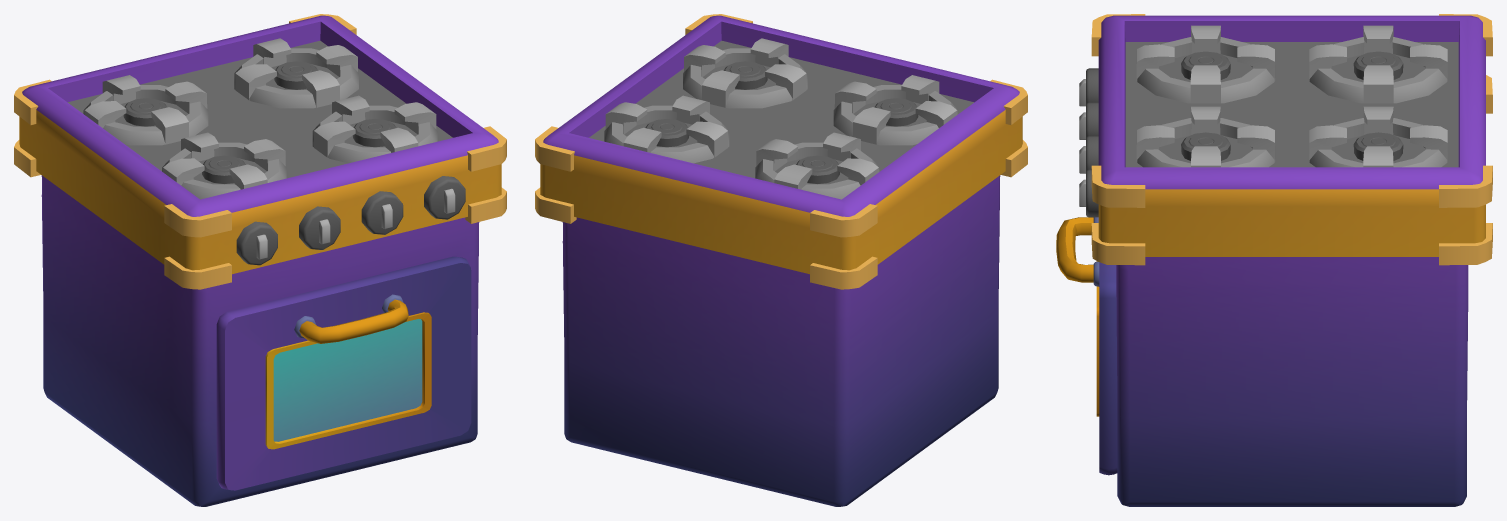
File: PurpleFurnace.fbx
The picture shows the model from 3 angles, left to right: view 1: azimuth 30°, elevation 25°; view 2: azimuth 150°, elevation 25°; view 3: azimuth 270°, elevation 25°; orthographic projection. The views are drawn at different scales.
Parts seen in each view (by area): view 1: Furnace.002, FurnaceDoor.002; view 2: Furnace.002; view 3: Furnace.002, FurnaceDoor.002.
Boxes of the visible parts, x1,y1,x2,y2 form: Furnace.002: (14, 14, 506, 506); FurnaceDoor.002: (216, 256, 471, 490); Furnace.002: (535, 14, 1027, 506); Furnace.002: (1079, 14, 1492, 506); FurnaceDoor.002: (1056, 217, 1117, 475).
Size of the model in its own units: 118 by 109 by 125.
